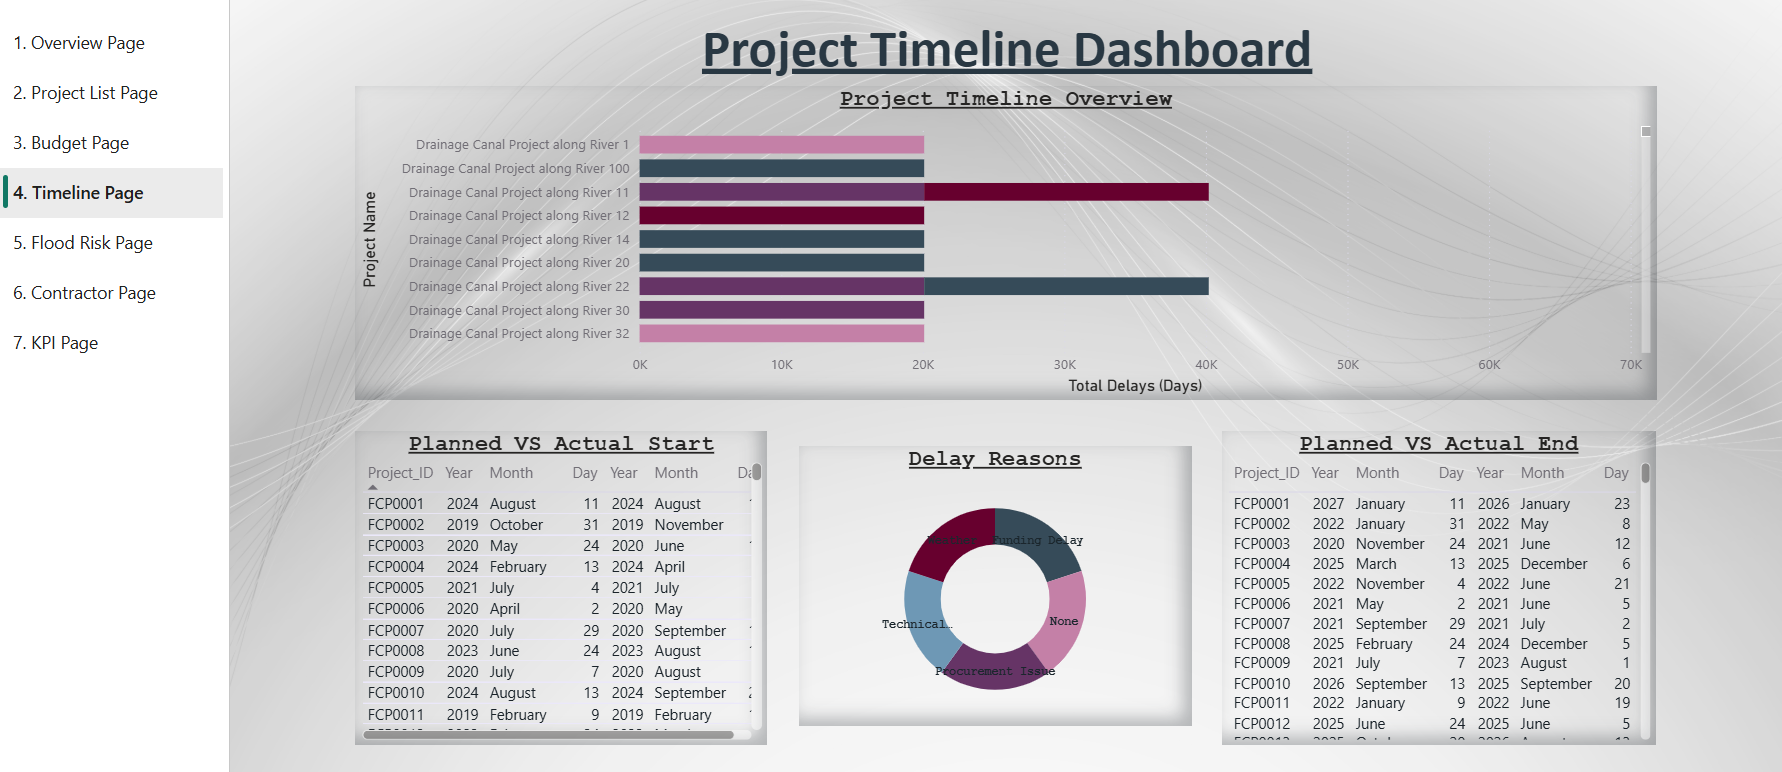

The page's visual inventory and layout, read from the dashboard file:
{"tool":"powerbi","page":{"name":"4. Timeline Page","canvas":[1280,700],"ordinal":3},"visuals":[{"type":"textbox","box":[52.5,9.7,1175,70],"z":0},{"type":"barChart","title":"Project Timeline Overview","fields":{"Y":["Sum(Project_Timeline.Delay_Days)"],"Category":["Project_List.Project_Name"],"Series":["Project_List.Project_Status"]},"box":[52.1,79.5,1174.9,283.6],"z":1000},{"type":"tableEx","title":"Planned VS Actual Start","fields":{"Values":["Project_List.Project_ID","Project_Timeline.Planned_Start.Variation.Date Hierarchy.Year","Project_Timeline.Planned_Start.Variation.Date Hierarchy.Month","Project_Timeline.Planned_Start.Variation.Date Hierarchy.Day","Project_Timeline.Actual_Start.Variation.Date Hierarchy.Year","Project_Timeline.Actual_Start.Variation.Date Hierarchy.Month","Project_Timeline.Actual_Start.Variation.Date Hierarchy.Day"]},"box":[52.1,390.4,371.9,283.6],"z":2000},{"type":"tableEx","title":"Planned VS Actual End","fields":{"Values":["Project_List.Project_ID","Project_Timeline.Planned_End.Variation.Date Hierarchy.Year","Project_Timeline.Planned_End.Variation.Date Hierarchy.Month","Project_Timeline.Planned_End.Variation.Date Hierarchy.Day","Project_Timeline.Actual_End.Variation.Date Hierarchy.Year","Project_Timeline.Actual_End.Variation.Date Hierarchy.Month","Project_Timeline.Actual_End.Variation.Date Hierarchy.Day"]},"box":[834.8,390.4,392.2,283.6],"z":3000},{"type":"donutChart","title":"Delay Reasons","fields":{"Y":["CountNonNull(Project_List.Project_ID)"],"Category":["Project_Timeline.Reason_for_Delay"]},"box":[453.2,403.7,354.2,252.6],"z":4000}]}

Visuals, with their boxes on the page's 1280x700 design canvas (x1, y1, x2, y2). These are canvas units, not pixel positions in the 1782x772 screenshot, which may show the page scaled, cropped or inside an application window:
textbox: select_region(52, 10, 1228, 80)
"Project Timeline Overview" barChart: select_region(52, 80, 1227, 363)
"Planned VS Actual Start" tableEx: select_region(52, 390, 424, 674)
"Planned VS Actual End" tableEx: select_region(835, 390, 1227, 674)
"Delay Reasons" donutChart: select_region(453, 404, 807, 656)
